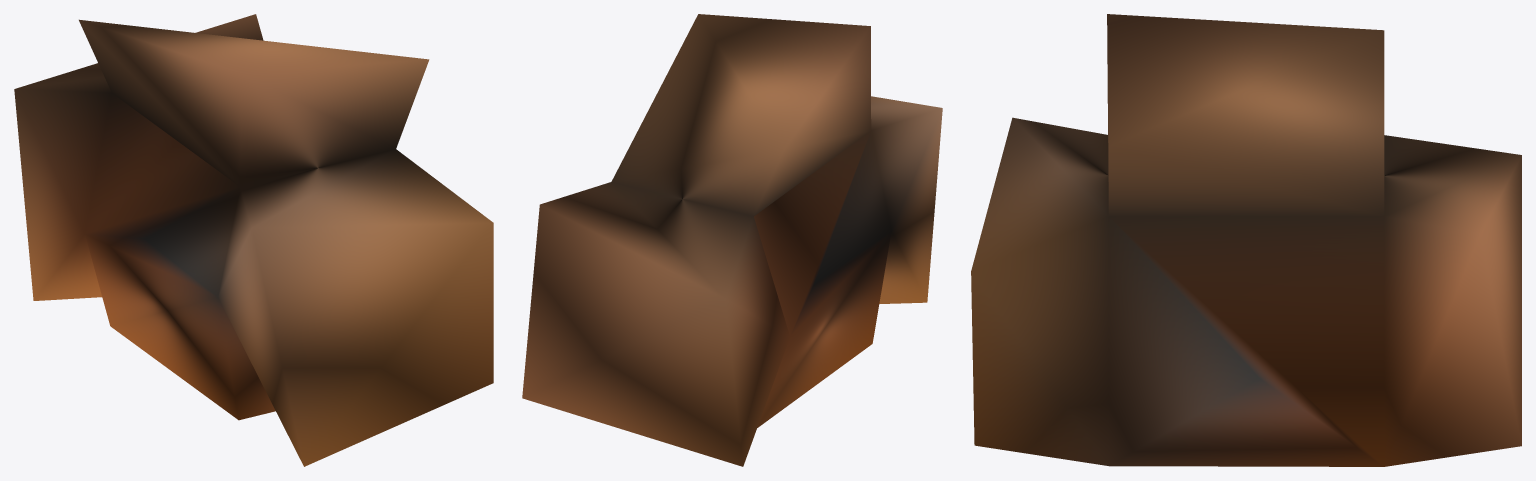
Rendered from battery_box_lod7.glb.
The picture shows the model from 3 angles, left to right: view 1: azimuth 30°, elevation 25°; view 2: azimuth 150°, elevation 25°; view 3: azimuth 270°, elevation 25°; orthographic projection. The views are drawn at different scales.
Visible parts, largest first — view 1: battery_box; view 2: battery_box; view 3: battery_box.
Part boxes in pixels (<box>): battery_box: <box>14,14,493,466</box>; battery_box: <box>522,14,942,466</box>; battery_box: <box>971,14,1521,466</box>.
Size of the model in its own units: 2.01 by 2.99 by 4.
